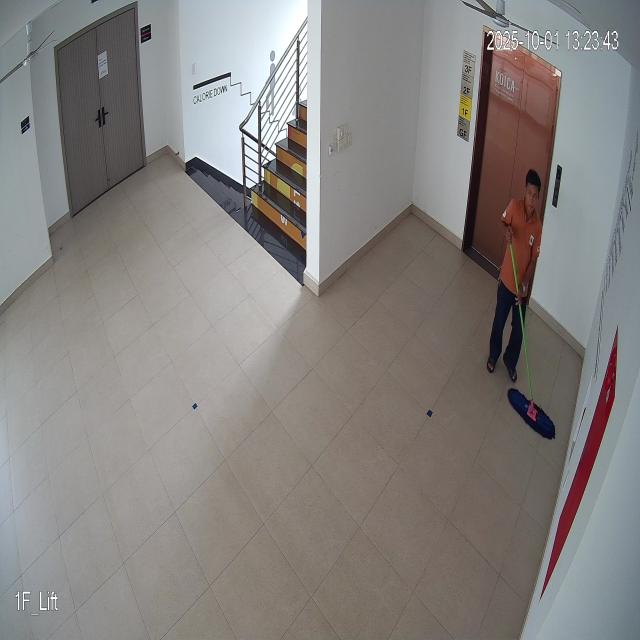face: (521, 170, 542, 218)
